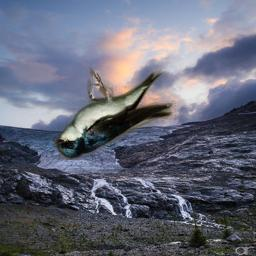Swallow: (54, 67, 176, 160)
